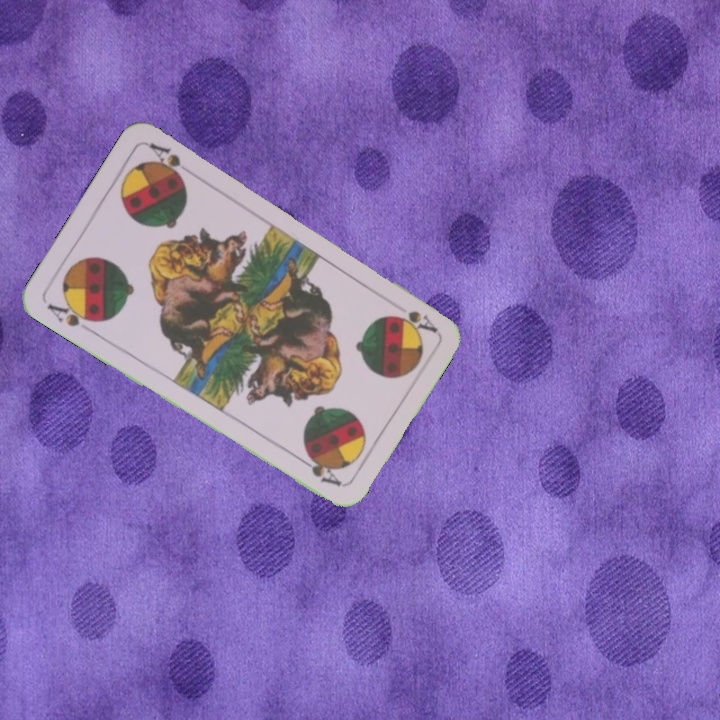SA: (43, 297, 101, 335), (392, 306, 440, 336)
